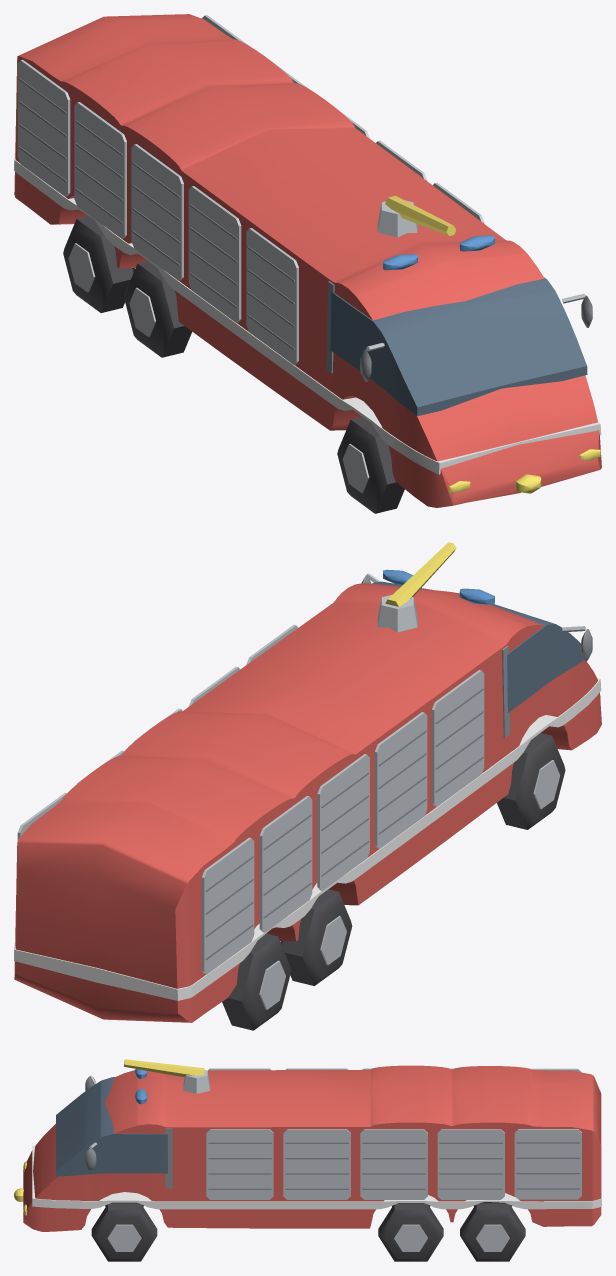
Rendered from camion_pompiers.glb.
3 renders of one model, top to bottom at view 1: azimuth 30°, elevation 25°; view 2: azimuth 150°, elevation 25°; view 3: azimuth 270°, elevation 25°, orthographic. The views are drawn at different scales.
Parts seen in each view (by area): view 1: carrosserie, roues, lance; view 2: carrosserie, roues, lance; view 3: carrosserie, roues, lance.
Boxes of the visible parts, box(x1,y1,x2,y2) form: carrosserie: box(14, 14, 601, 507); roues: box(63, 216, 404, 513); lance: box(377, 195, 456, 237); carrosserie: box(14, 569, 601, 1022); roues: box(222, 733, 565, 1030); lance: box(377, 542, 456, 632); carrosserie: box(14, 1065, 601, 1231); roues: box(91, 1202, 525, 1261); lance: box(124, 1059, 209, 1093).
Size of the model in its own units: 3.68 by 3.96 by 12.21.
